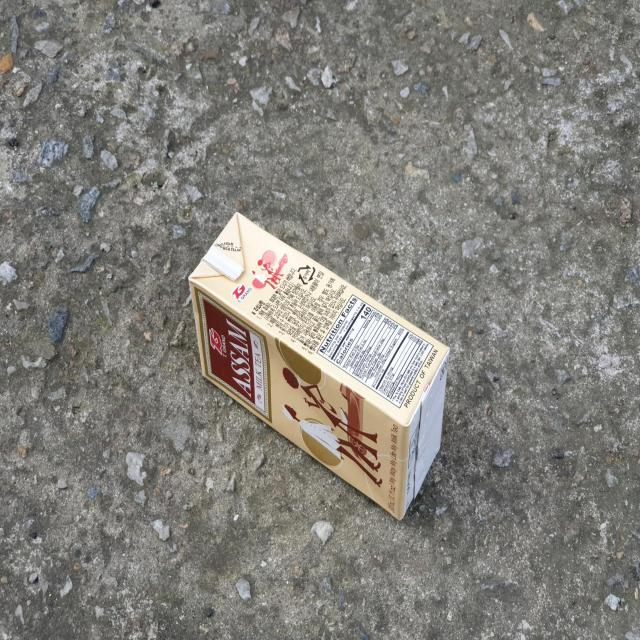paperpack: (188, 212, 450, 520)
